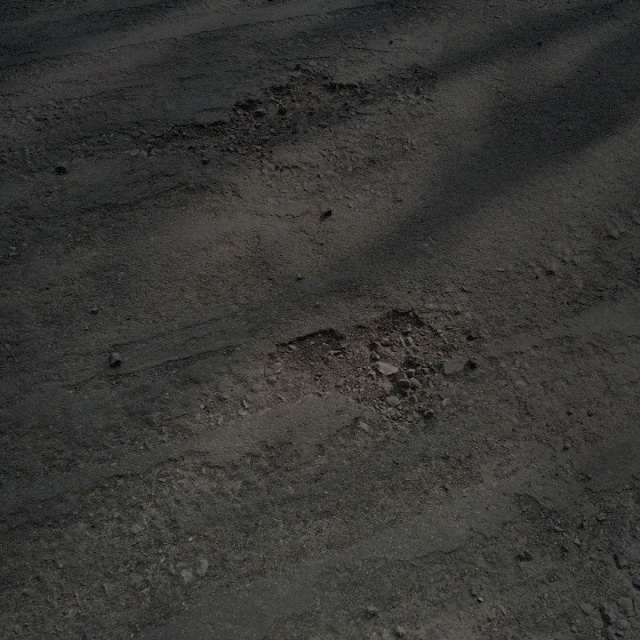pothole: (269, 303, 448, 434), (146, 65, 372, 166)
